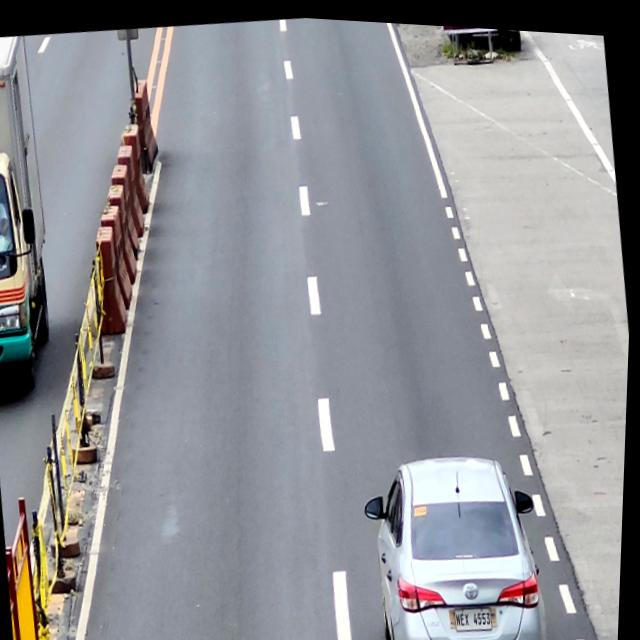Car: (356, 433, 562, 640)
License-Plate: (457, 596, 498, 630)
